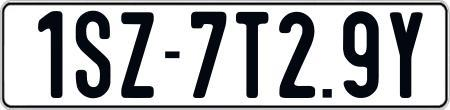1: (37, 10, 61, 100)
2: (279, 9, 317, 100)
7: (188, 10, 223, 97)
9: (340, 10, 382, 98)
S: (73, 11, 107, 102)
T: (234, 11, 266, 100)
Y: (387, 10, 425, 96)
Z: (118, 12, 151, 104)
